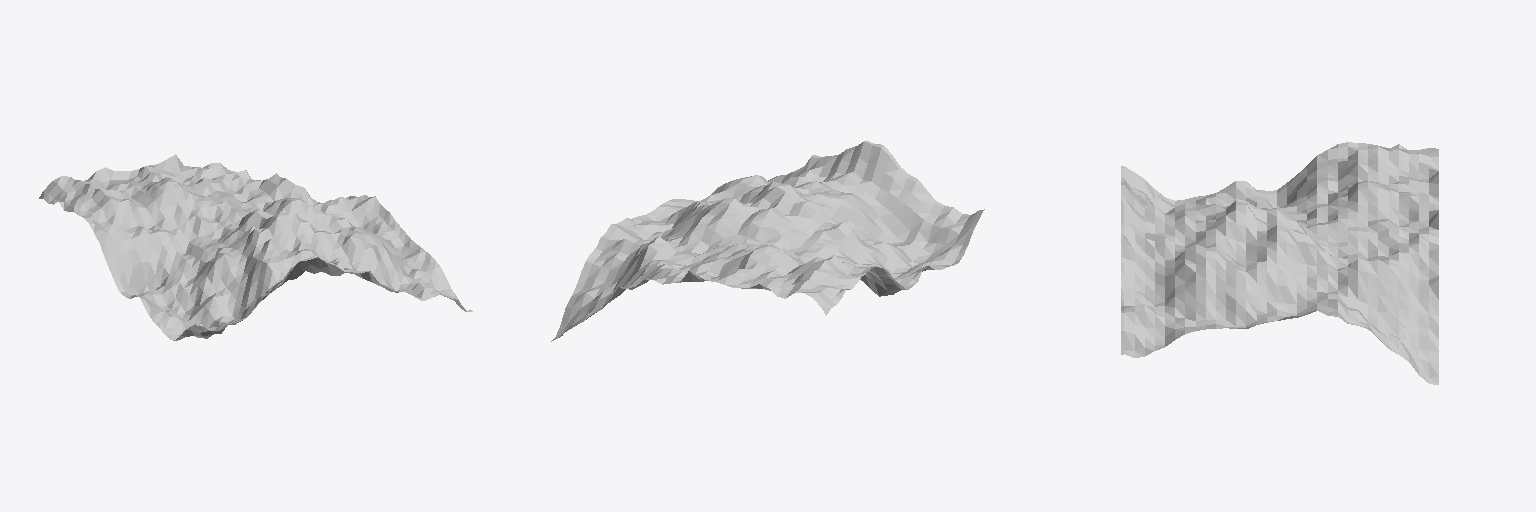
Rendered from terrain_3_4.obj.
The picture shows the model from 3 angles: view 1: azimuth 30°, elevation 25°; view 2: azimuth 150°, elevation 25°; view 3: azimuth 270°, elevation 25°; orthographic projection.
Visible parts, largest first — view 1: terrain_3_4_Plane.031; view 2: terrain_3_4_Plane.031; view 3: terrain_3_4_Plane.031.
Part boxes in pixels (left/top/right/bottom): terrain_3_4_Plane.031: left=39, top=154, right=472, bottom=340; terrain_3_4_Plane.031: left=551, top=141, right=984, bottom=341; terrain_3_4_Plane.031: left=1121, top=142, right=1438, bottom=384.
Bounding box in the file's own units: 32 × 13.74 × 32.